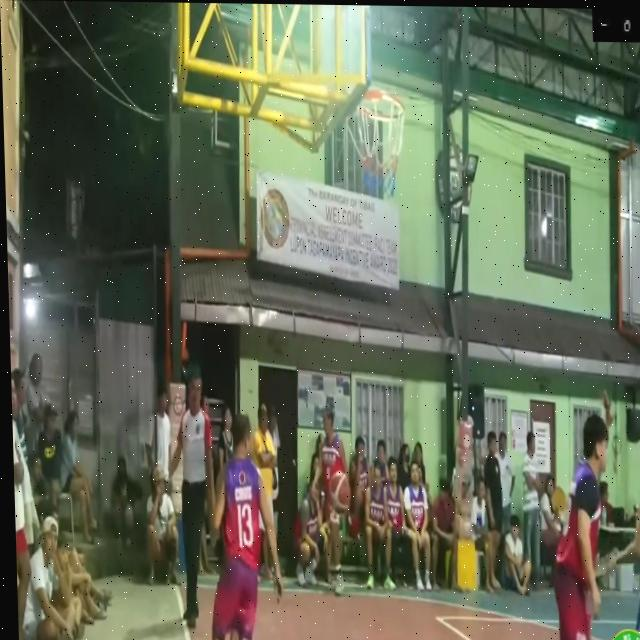basketball: (324, 465, 355, 524)
hoop: (349, 82, 413, 209)
